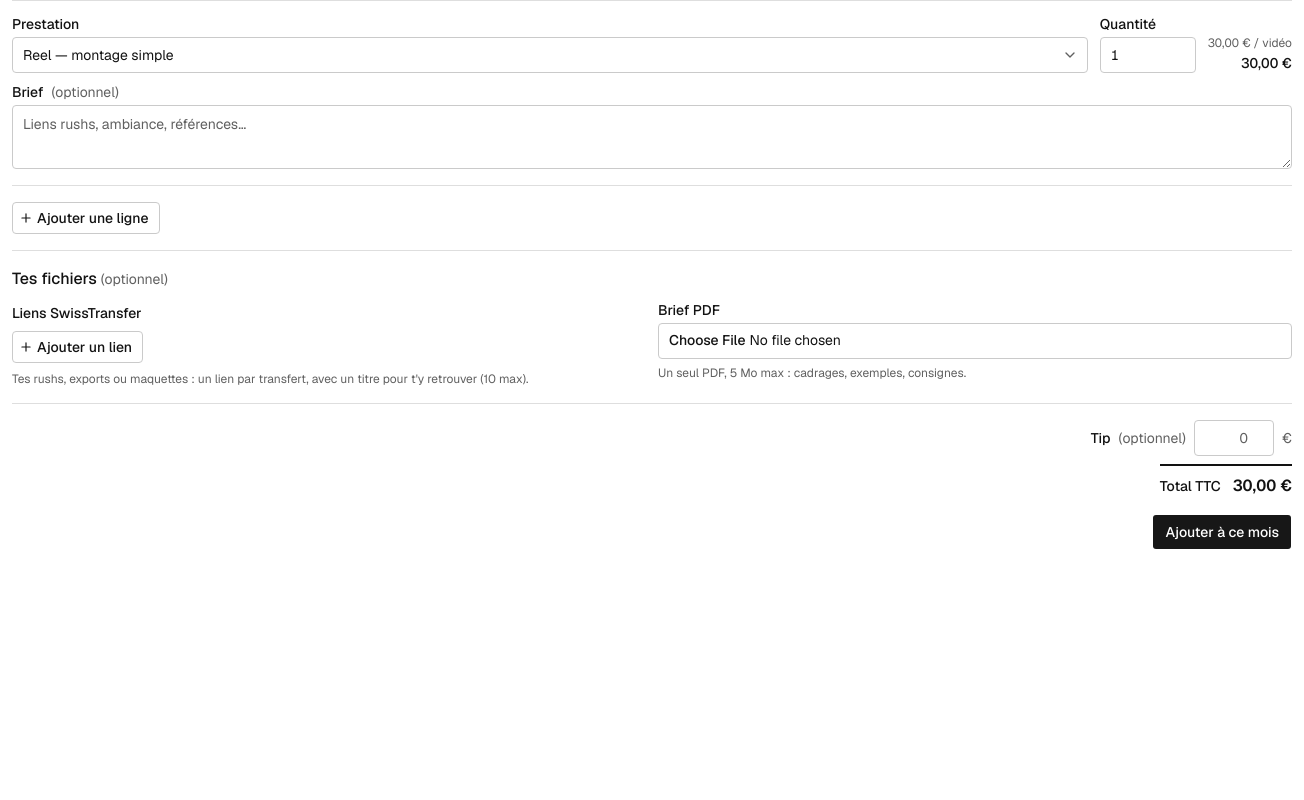
Scenario: CommandeForm › soumet les lignes SANS prix et confirme l'ajout au mois
Clear the number field labelled "Quantité" at (1148, 55), box 1100,37 -> 1196,73
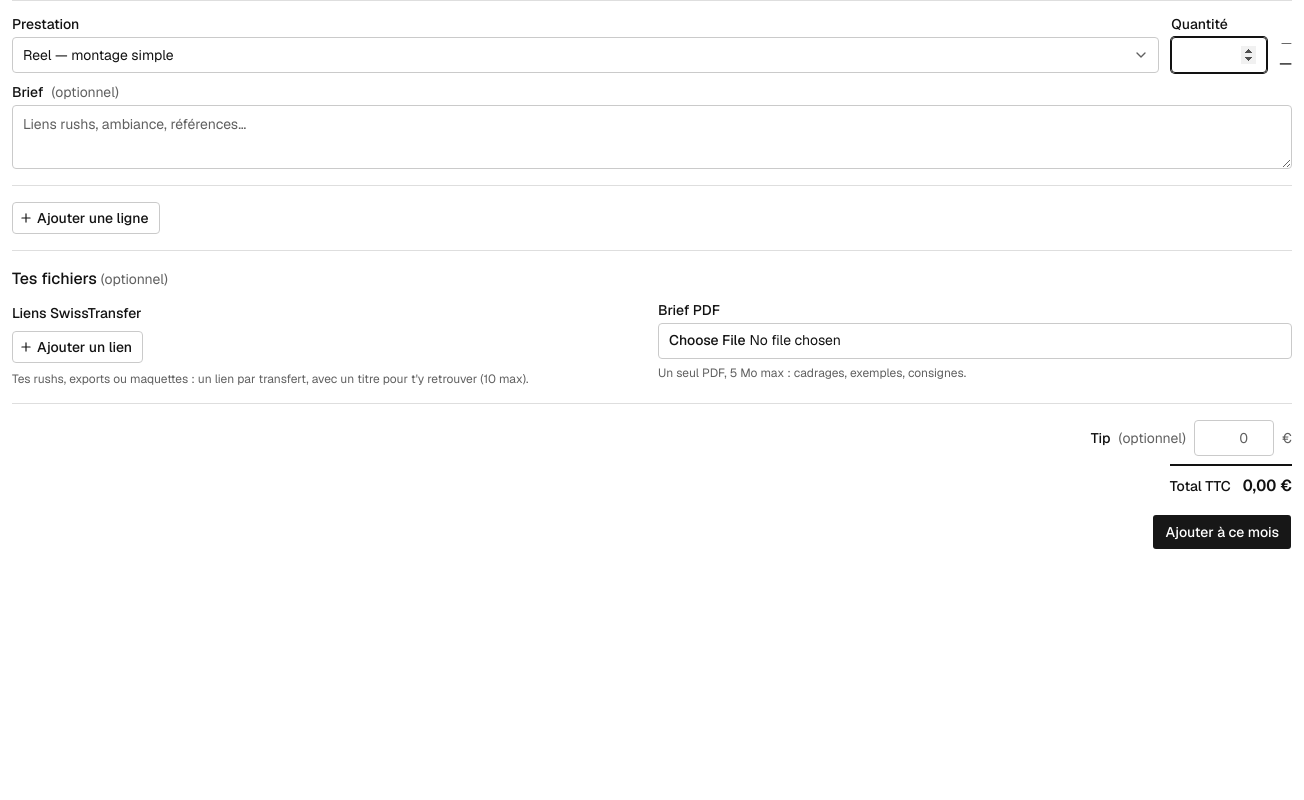
Type "3" into the number field labelled "Quantité".
click(1219, 55); type("3")  # box 1171,37 -> 1267,73
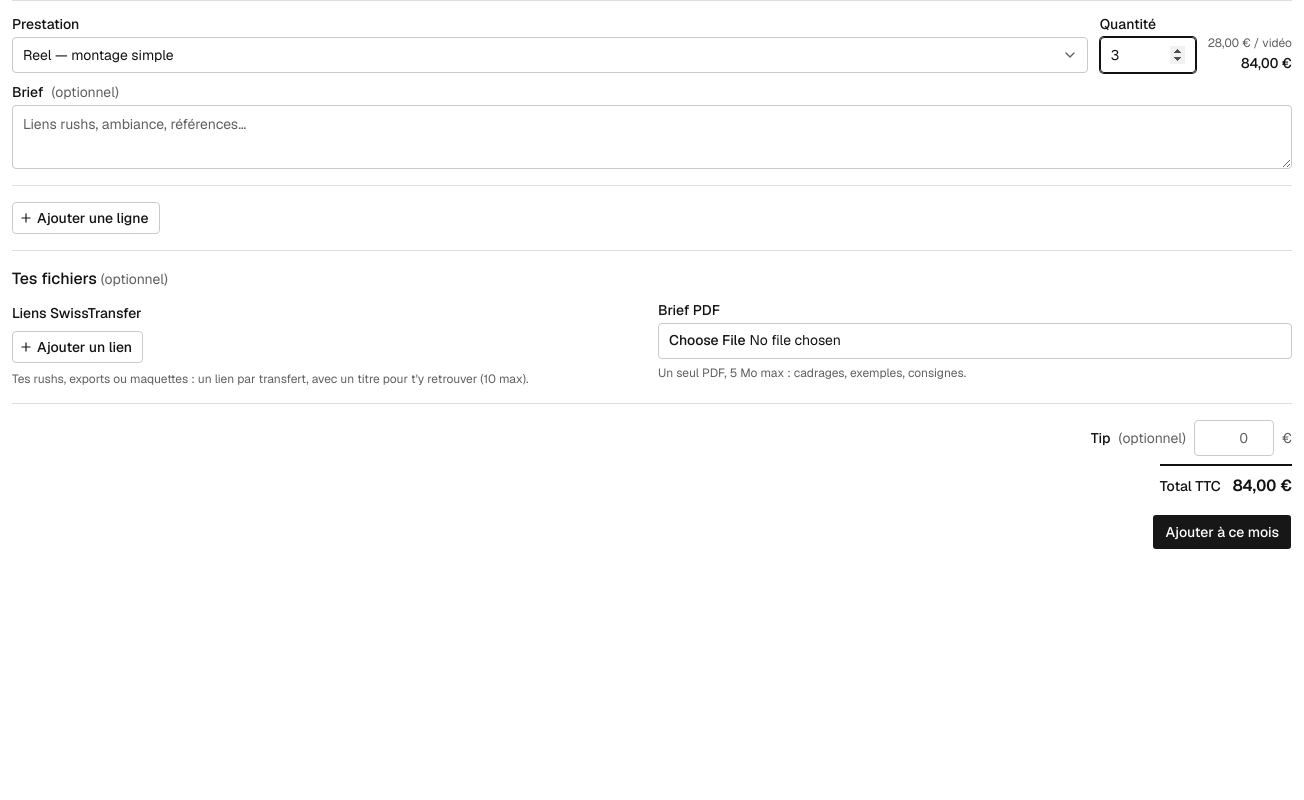
Type "3 reels événement" into the text box labelled "Brief (optionnel)".
click(652, 137); type("3 reels événement")  # box 12,105 -> 1292,169
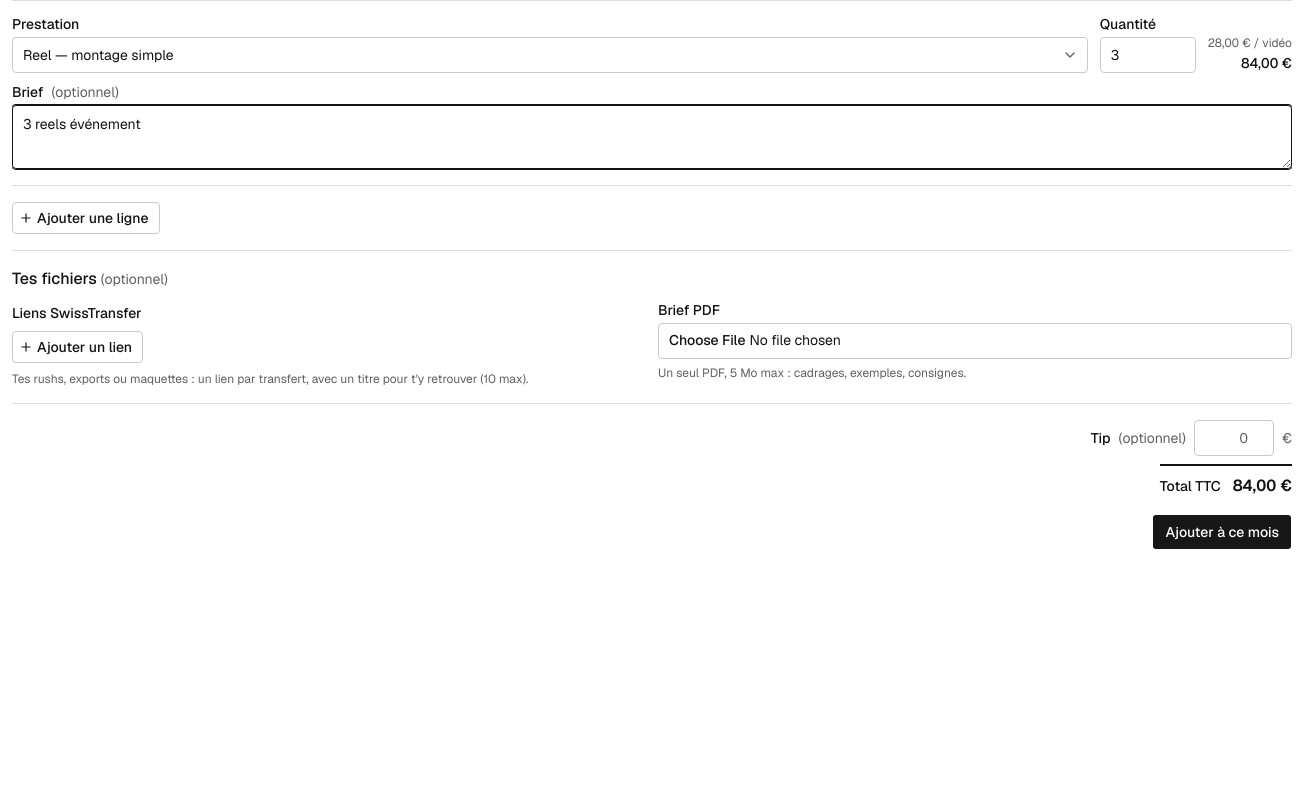
Click the button "Ajouter à ce mois".
click(1222, 532)  # box 1152,514 -> 1292,550
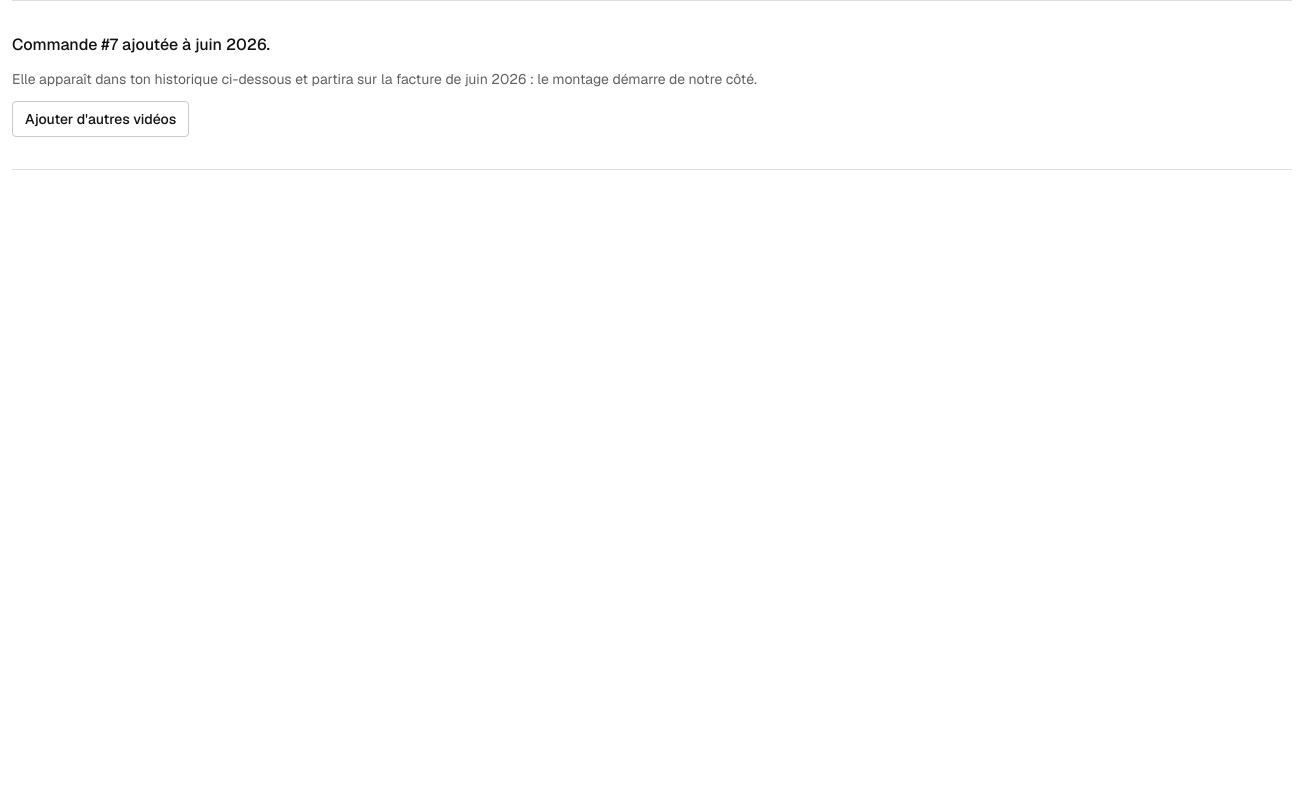
Result: the text "Commande #7 ajoutée à juin 2026." is shown at 12,33 -> 270,57
